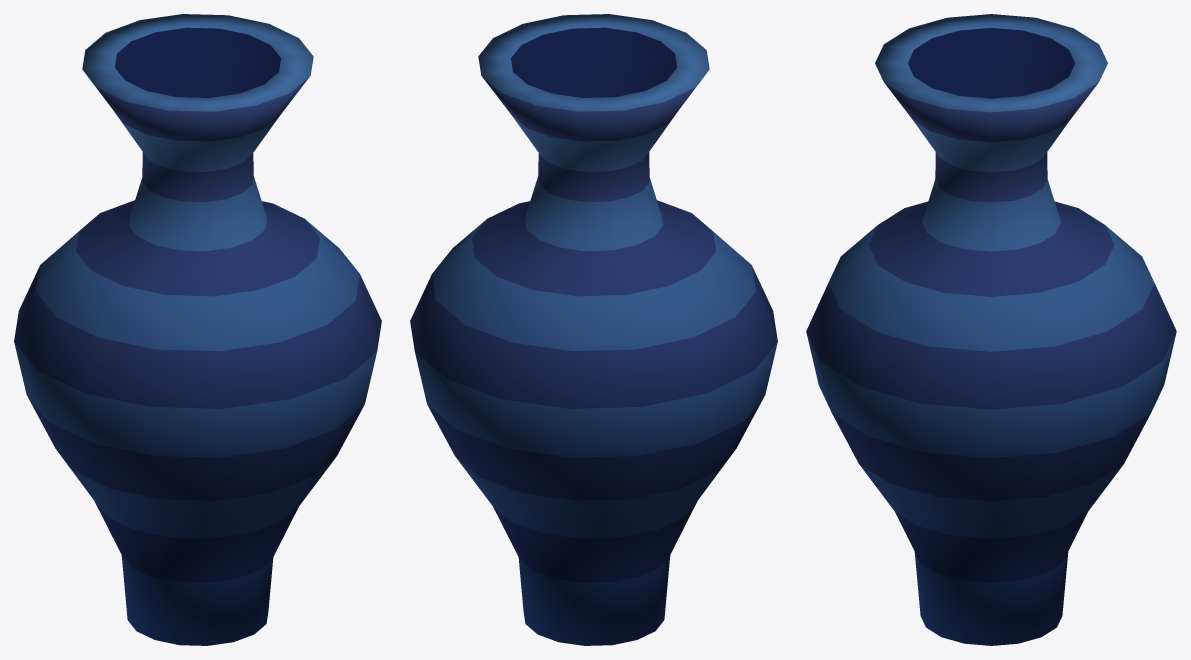
3 renders of one model, left to right at view 1: azimuth 30°, elevation 25°; view 2: azimuth 150°, elevation 25°; view 3: azimuth 270°, elevation 25°, orthographic.
Visible parts, largest first — view 1: alt1.002; view 2: alt1.002; view 3: alt1.002.
Part boxes in pixels (x1,y1,x2,y2): alt1.002: [14, 14, 381, 645]; alt1.002: [410, 14, 777, 645]; alt1.002: [806, 14, 1176, 645].
Size of the model in its own units: 0.3039 by 0.5 by 0.3039.
